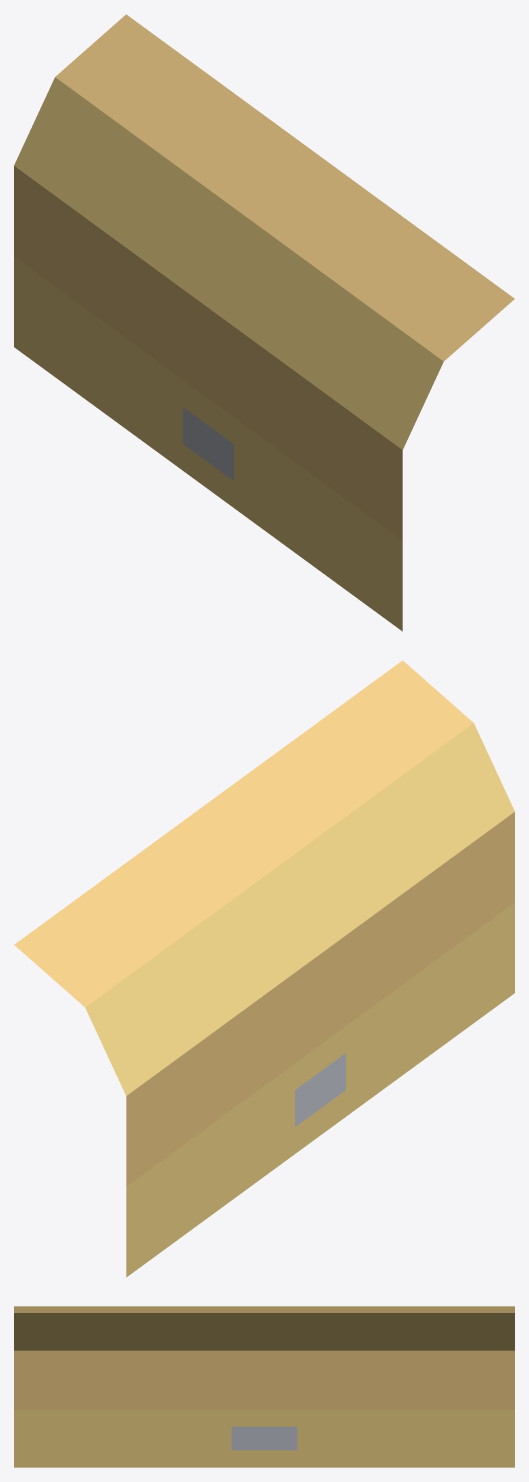
File: door-wide-open.fbx
3 renders of one model, top to bottom at view 1: azimuth 30°, elevation 25°; view 2: azimuth 150°, elevation 25°; view 3: azimuth 270°, elevation 25°, orthographic. The views are drawn at different scales.
Visible parts, largest first — view 1: door-wide-open; view 2: door-wide-open; view 3: door-wide-open.
Part boxes in pixels (bbox=[...]): door-wide-open: bbox=[14, 14, 514, 631]; door-wide-open: bbox=[14, 660, 514, 1277]; door-wide-open: bbox=[14, 1306, 514, 1467].
Size of the model in its own units: 30 by 78.02 by 180.
